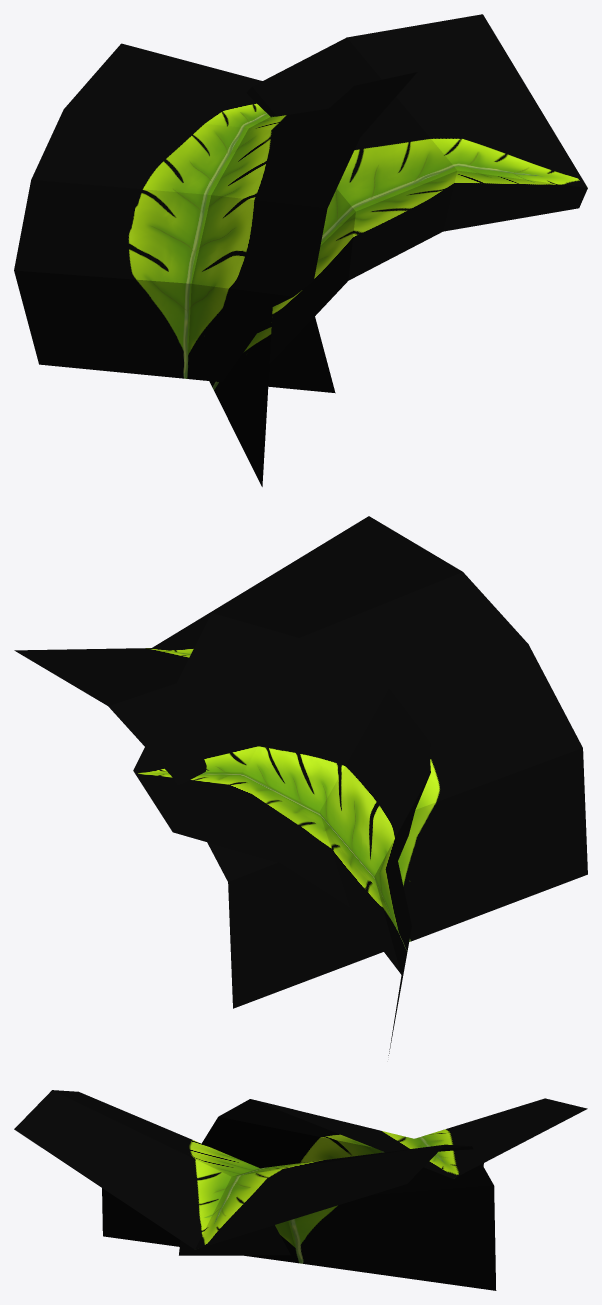
File: SM_Frond2.fbx
The picture shows the model from 3 angles, top to bottom: view 1: azimuth 30°, elevation 25°; view 2: azimuth 150°, elevation 25°; view 3: azimuth 270°, elevation 25°; orthographic projection. The views are drawn at different scales.
Parts seen in each view (by area): view 1: Frond.001; view 2: Frond.001; view 3: Frond.001.
Part boxes in pixels (x1,y1,x2,y2): Frond.001: [14, 14, 587, 486]; Frond.001: [14, 516, 587, 1055]; Frond.001: [14, 1090, 587, 1290].
Size of the model in its own units: 232 by 157 by 308.
1 material, 1 textured.
